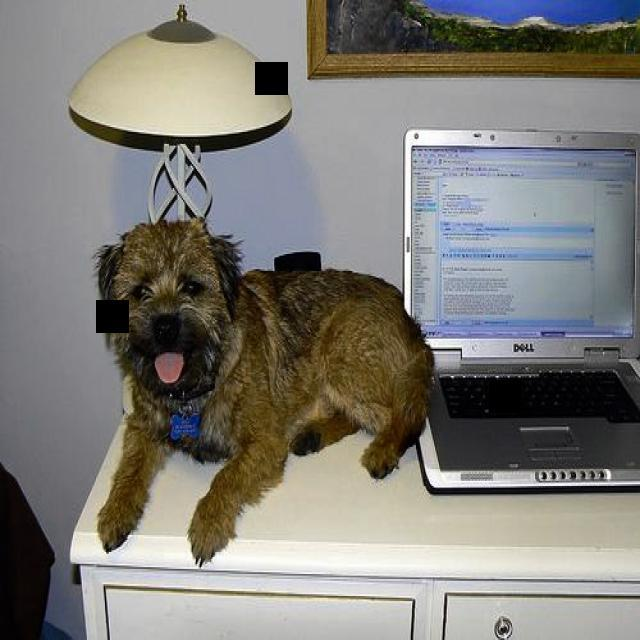adult_dog: (93, 219, 434, 563)
